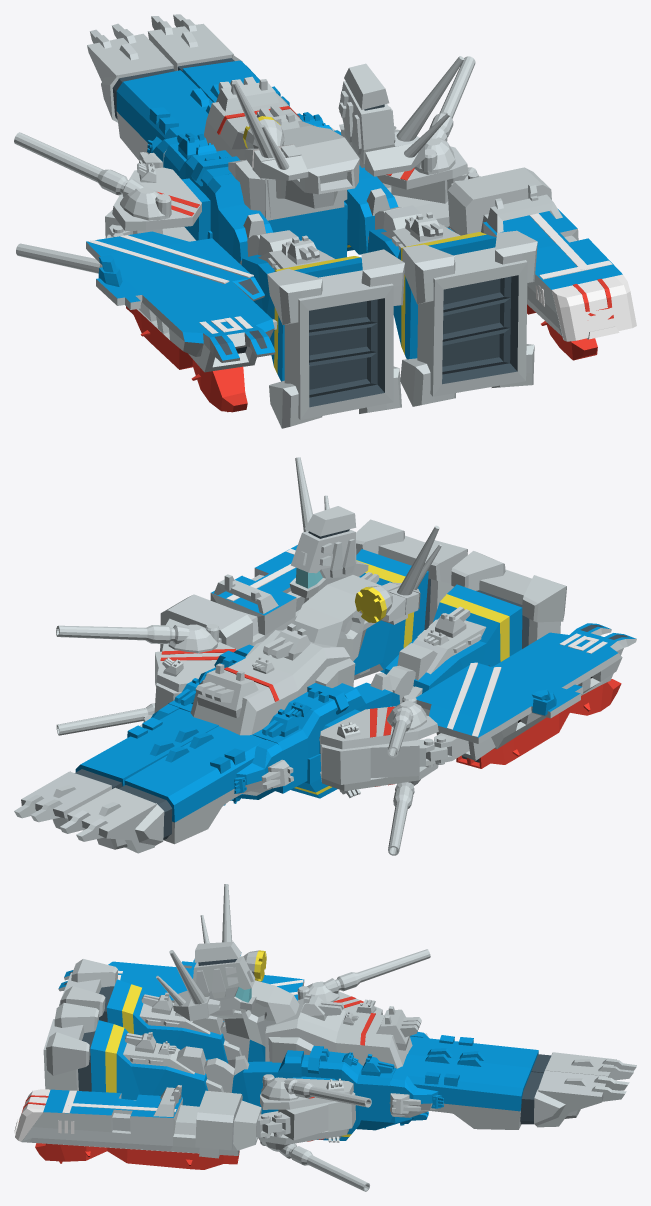
The model's file is scene_FwIkj0f5ni.glb.
3 views of the same model, one above another, from view 1: azimuth 30°, elevation 25°; view 2: azimuth 150°, elevation 25°; view 3: azimuth 270°, elevation 25° (orthographic). The views are drawn at different scales.
Visible parts, largest first — view 1: group791636052, group1251072159, group307810053, group1818798586, group1869342114, group1218857604, group1537791447, group1866624947, group734031437, group168960952, group113329594, group110305766 (+6 smaller); view 2: group791636052, group1251072159, group1218857604, group734031437, group1869342114, group113329594, group1537791447, group307810053, group1866624947, group168960952, group1818798586, group110305766 (+6 smaller); view 3: group1218857604, group1869342114, group1866624947, group791636052, group734031437, group1537791447, group113329594, group1818798586, group168960952, group1251072159, group307810053, group2008653266 (+5 smaller).
Part boxes in pixels (x1,y1,x2,y2): group791636052: [14, 23, 239, 273]; group1251072159: [86, 231, 277, 412]; group307810053: [267, 249, 404, 428]; group1818798586: [400, 230, 537, 406]; group1869342114: [447, 167, 636, 360]; group1218857604: [147, 14, 476, 228]; group1537791447: [338, 56, 464, 176]; group1866624947: [367, 205, 496, 359]; group734031437: [240, 230, 362, 381]; group168960952: [275, 125, 359, 208]; group113329594: [204, 93, 344, 220]; group110305766: [232, 80, 308, 180]; group791636052: [60, 683, 438, 855]; group1251072159: [416, 623, 636, 768]; group1218857604: [14, 624, 245, 830]; group734031437: [384, 584, 522, 703]; group1869342114: [160, 545, 311, 651]; group113329594: [190, 630, 350, 735]; group1537791447: [289, 457, 368, 598]; group307810053: [451, 551, 566, 648]; group1866624947: [353, 549, 428, 679]; group168960952: [294, 575, 381, 661]; group1818798586: [356, 519, 467, 629]; group110305766: [355, 525, 441, 624]; group1218857604: [258, 1045, 629, 1191]; group1869342114: [14, 1085, 261, 1169]; group1866624947: [90, 1020, 234, 1106]; group791636052: [297, 949, 636, 1080]; group734031437: [106, 979, 249, 1068]; group1537791447: [156, 941, 256, 1021]; group113329594: [265, 998, 412, 1068]; group1818798586: [43, 1003, 99, 1091]; group168960952: [211, 980, 299, 1046]; group1251072159: [58, 955, 304, 1021]; group307810053: [59, 959, 117, 1022]; group2008653266: [232, 1050, 303, 1114].
Bounding box in the file's own units: 3.52 × 1.96 × 5.3.
